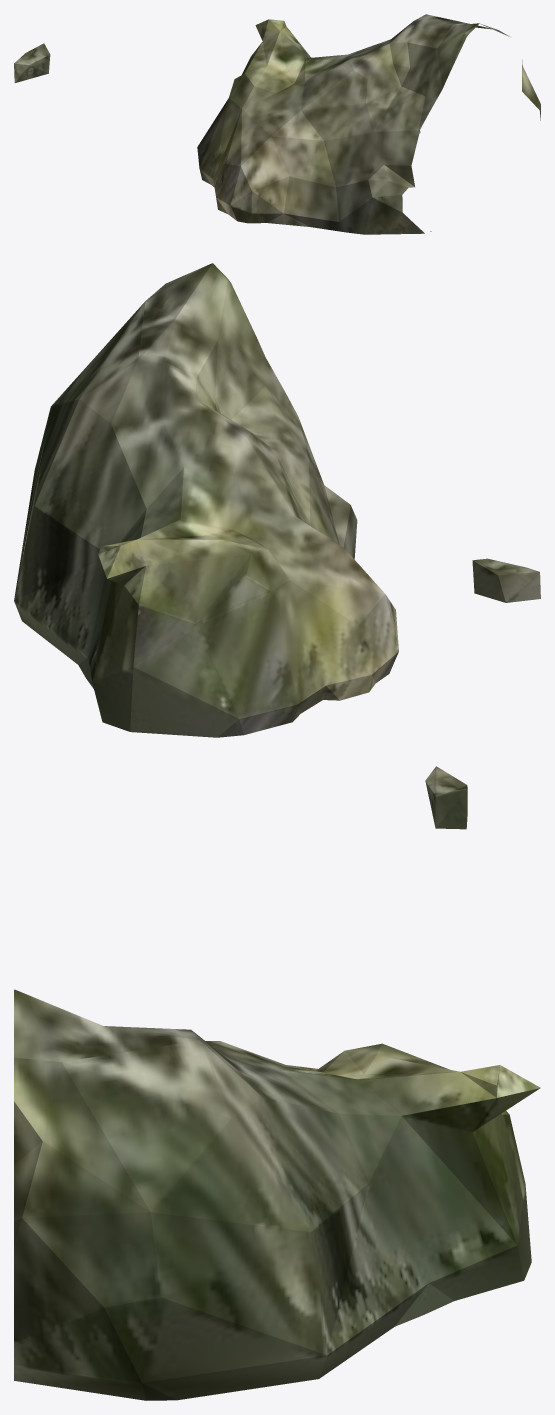
3 renders of one model, top to bottom at view 1: azimuth 30°, elevation 25°; view 2: azimuth 150°, elevation 25°; view 3: azimuth 270°, elevation 25°, orthographic. The views are drawn at different scales.
Size of the model in its own units: 2.24 by 0.9847 by 1.35.
Materials: 1 (1 with a texture image).
